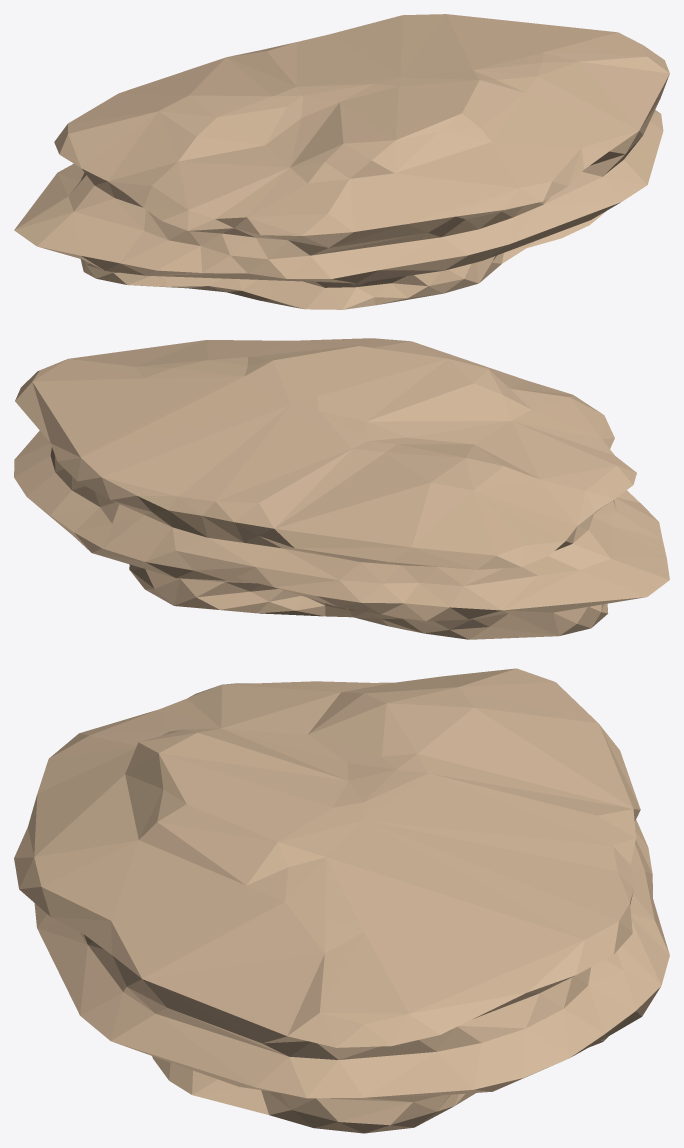
File: SM_DST_Rock_Boulder_B.fbx
The picture shows the model from 3 angles, top to bottom: view 1: azimuth 30°, elevation 25°; view 2: azimuth 150°, elevation 25°; view 3: azimuth 270°, elevation 25°; orthographic projection. The views are drawn at different scales.
Visible parts, largest first — view 1: SM_DST_Rock_Boulder_B; view 2: SM_DST_Rock_Boulder_B; view 3: SM_DST_Rock_Boulder_B.
Boxes of the visible parts, x1,y1,x2,y2 form: SM_DST_Rock_Boulder_B: (14, 14, 669, 309); SM_DST_Rock_Boulder_B: (14, 338, 669, 639); SM_DST_Rock_Boulder_B: (14, 668, 669, 1133).
Bounding box in the file's own units: 2.82 × 0.6185 × 1.84.
